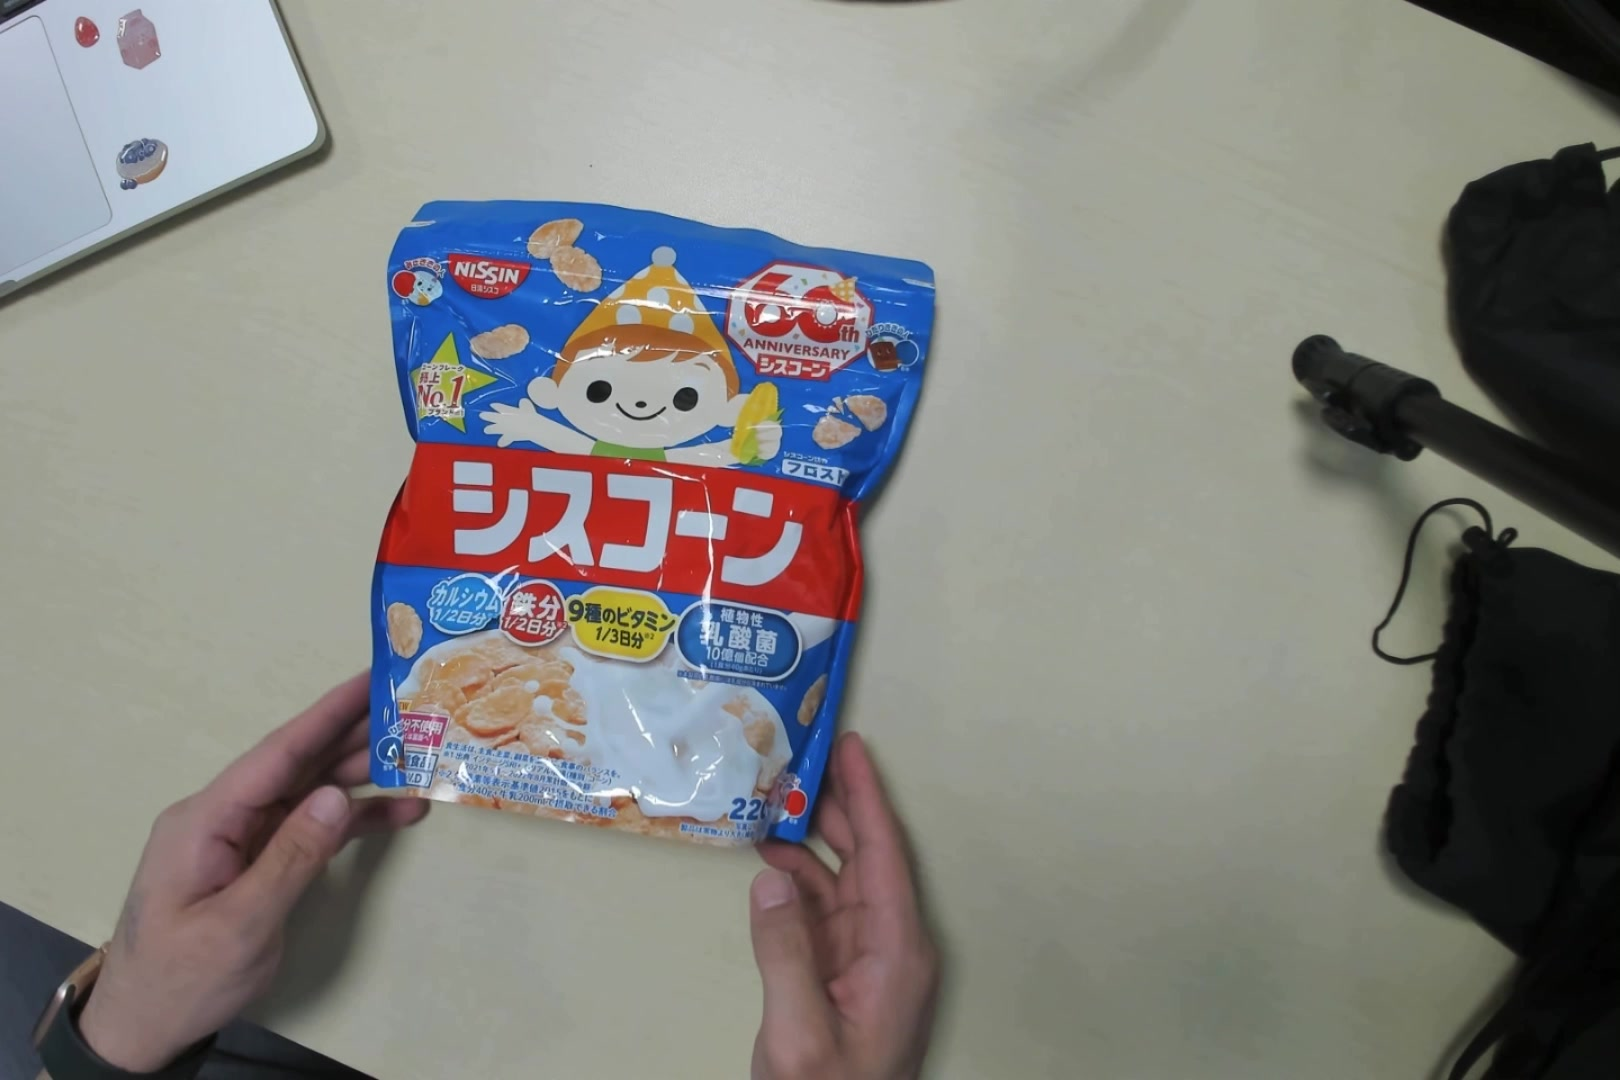BreakfastCereals_200-299g_NonHalal_NonHealthy: (368, 196, 906, 837)
